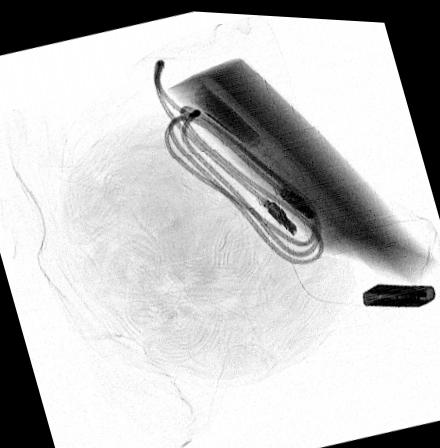Lighter: (362, 278, 435, 301)
